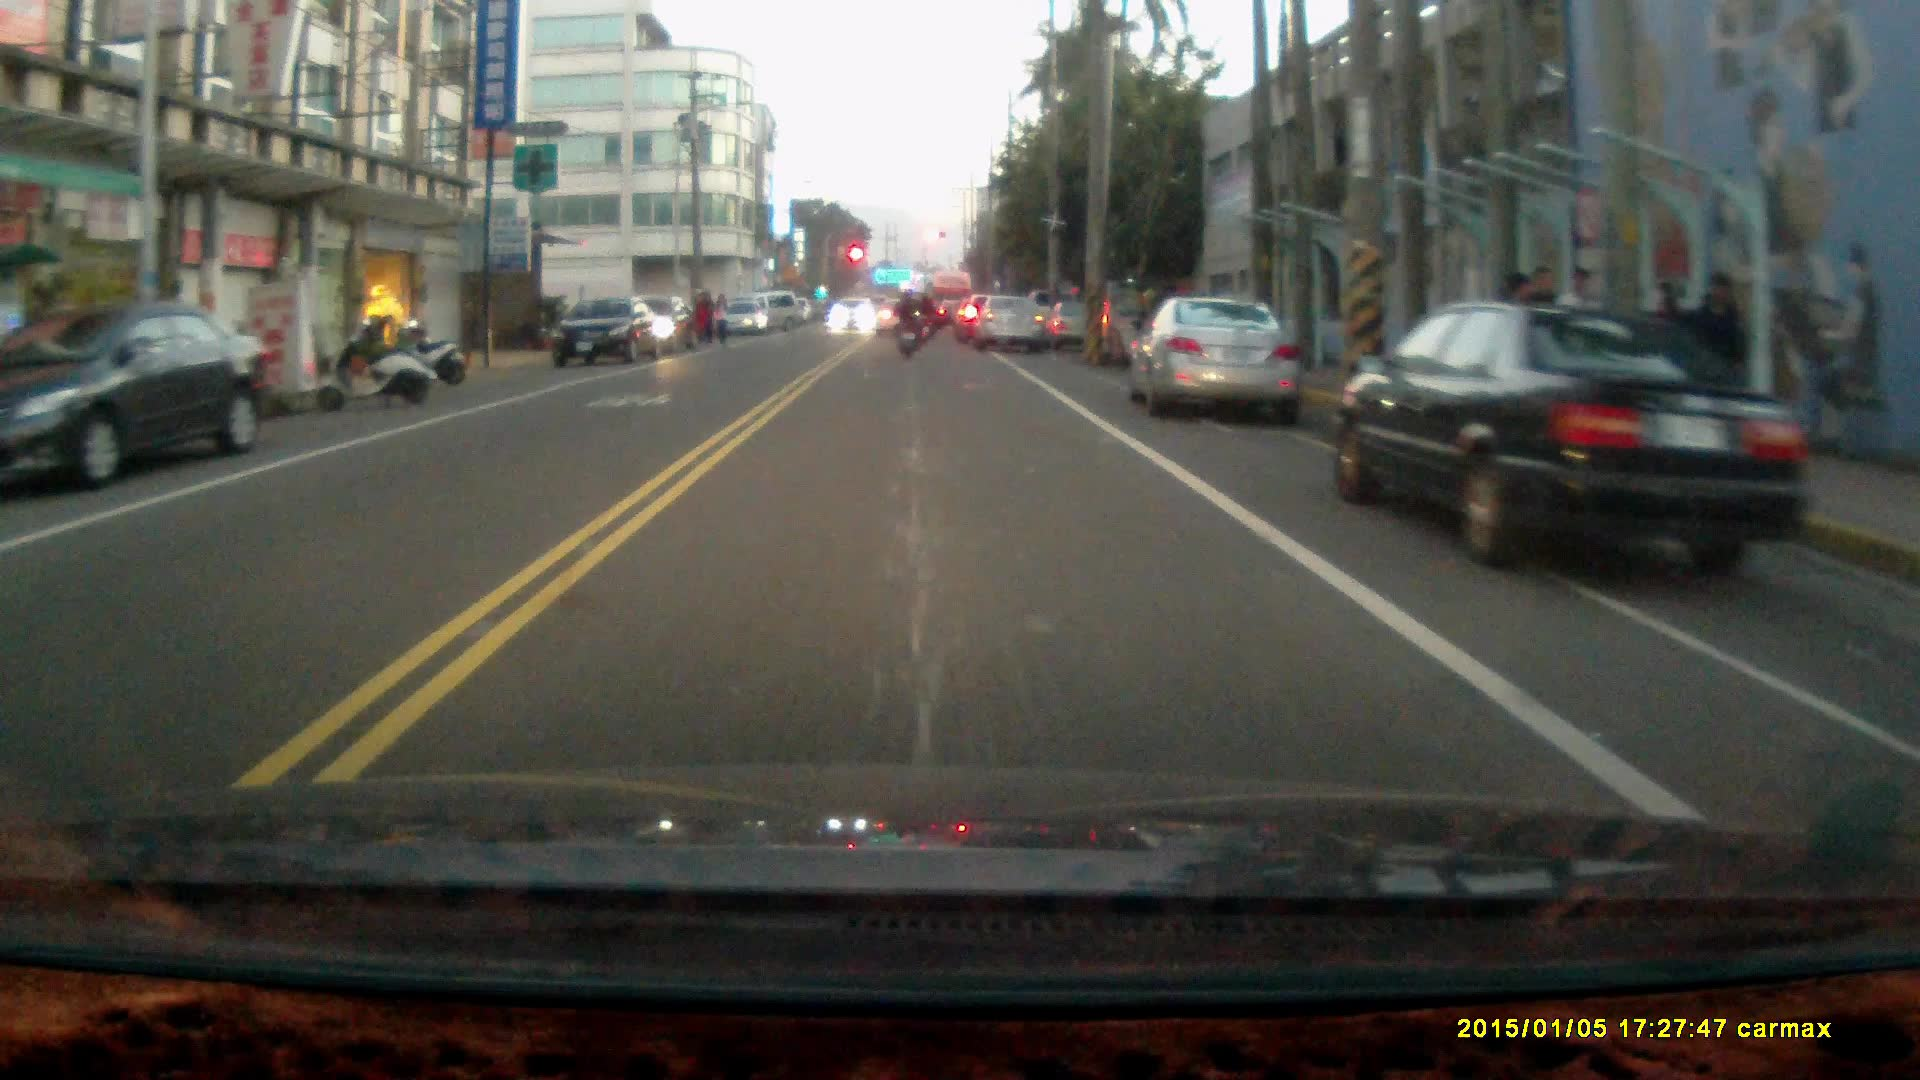pedestrian: (1688, 268, 1748, 422), (694, 289, 716, 349), (709, 289, 729, 349)
rider: (891, 284, 924, 360)
vehicle: (1325, 299, 1819, 589), (1, 304, 277, 486), (1130, 296, 1303, 419), (551, 301, 672, 374), (974, 294, 1048, 351)
